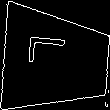L_E: (33, 43, 79, 78)
